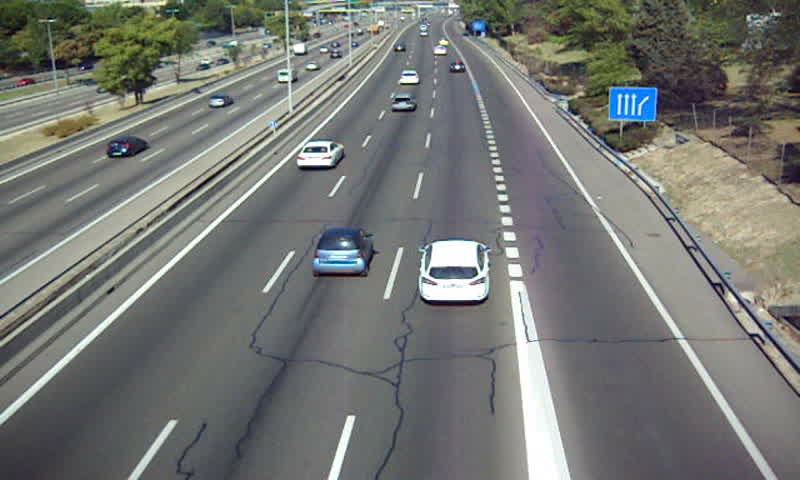car: (418, 241, 491, 302), (314, 227, 376, 273), (294, 141, 344, 170), (391, 92, 417, 114), (398, 70, 420, 86), (449, 60, 466, 73)
